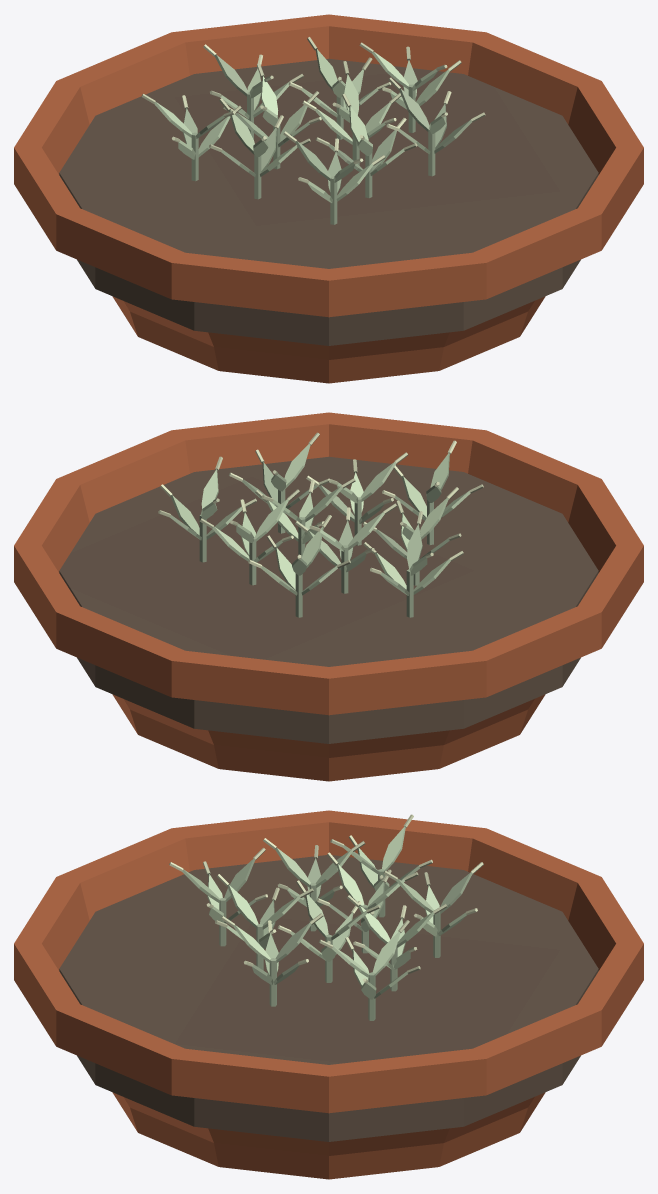
Rendered from moss-argenteum.glb.
The picture shows the model from 3 angles, top to bottom: view 1: azimuth 30°, elevation 25°; view 2: azimuth 150°, elevation 25°; view 3: azimuth 270°, elevation 25°; orthographic projection.
Visible parts, largest first — view 1: moss-argenteum/review-rooted-soil, moss-argenteum/review-terra-vessel; view 2: moss-argenteum/review-rooted-soil, moss-argenteum/review-terra-vessel; view 3: moss-argenteum/review-rooted-soil, moss-argenteum/review-terra-vessel.
Part boxes in pixels (<box>): moss-argenteum/review-rooted-soil: <box>59,58,598,345</box>; moss-argenteum/review-terra-vessel: <box>14,14,643,383</box>; moss-argenteum/review-rooted-soil: <box>59,456,598,743</box>; moss-argenteum/review-terra-vessel: <box>14,412,643,781</box>; moss-argenteum/review-rooted-soil: <box>59,855,598,1141</box>; moss-argenteum/review-terra-vessel: <box>14,810,643,1179</box>.
Size of the model in its own units: 0.25 by 0.0882 by 0.25.
4 materials, 4 textured.
